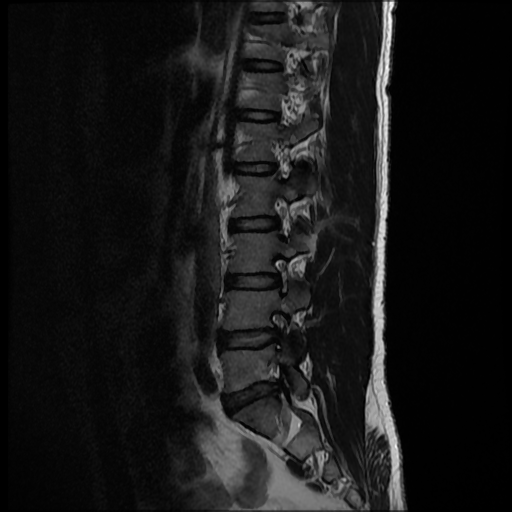RFS0: (259, 245, 297, 299)
